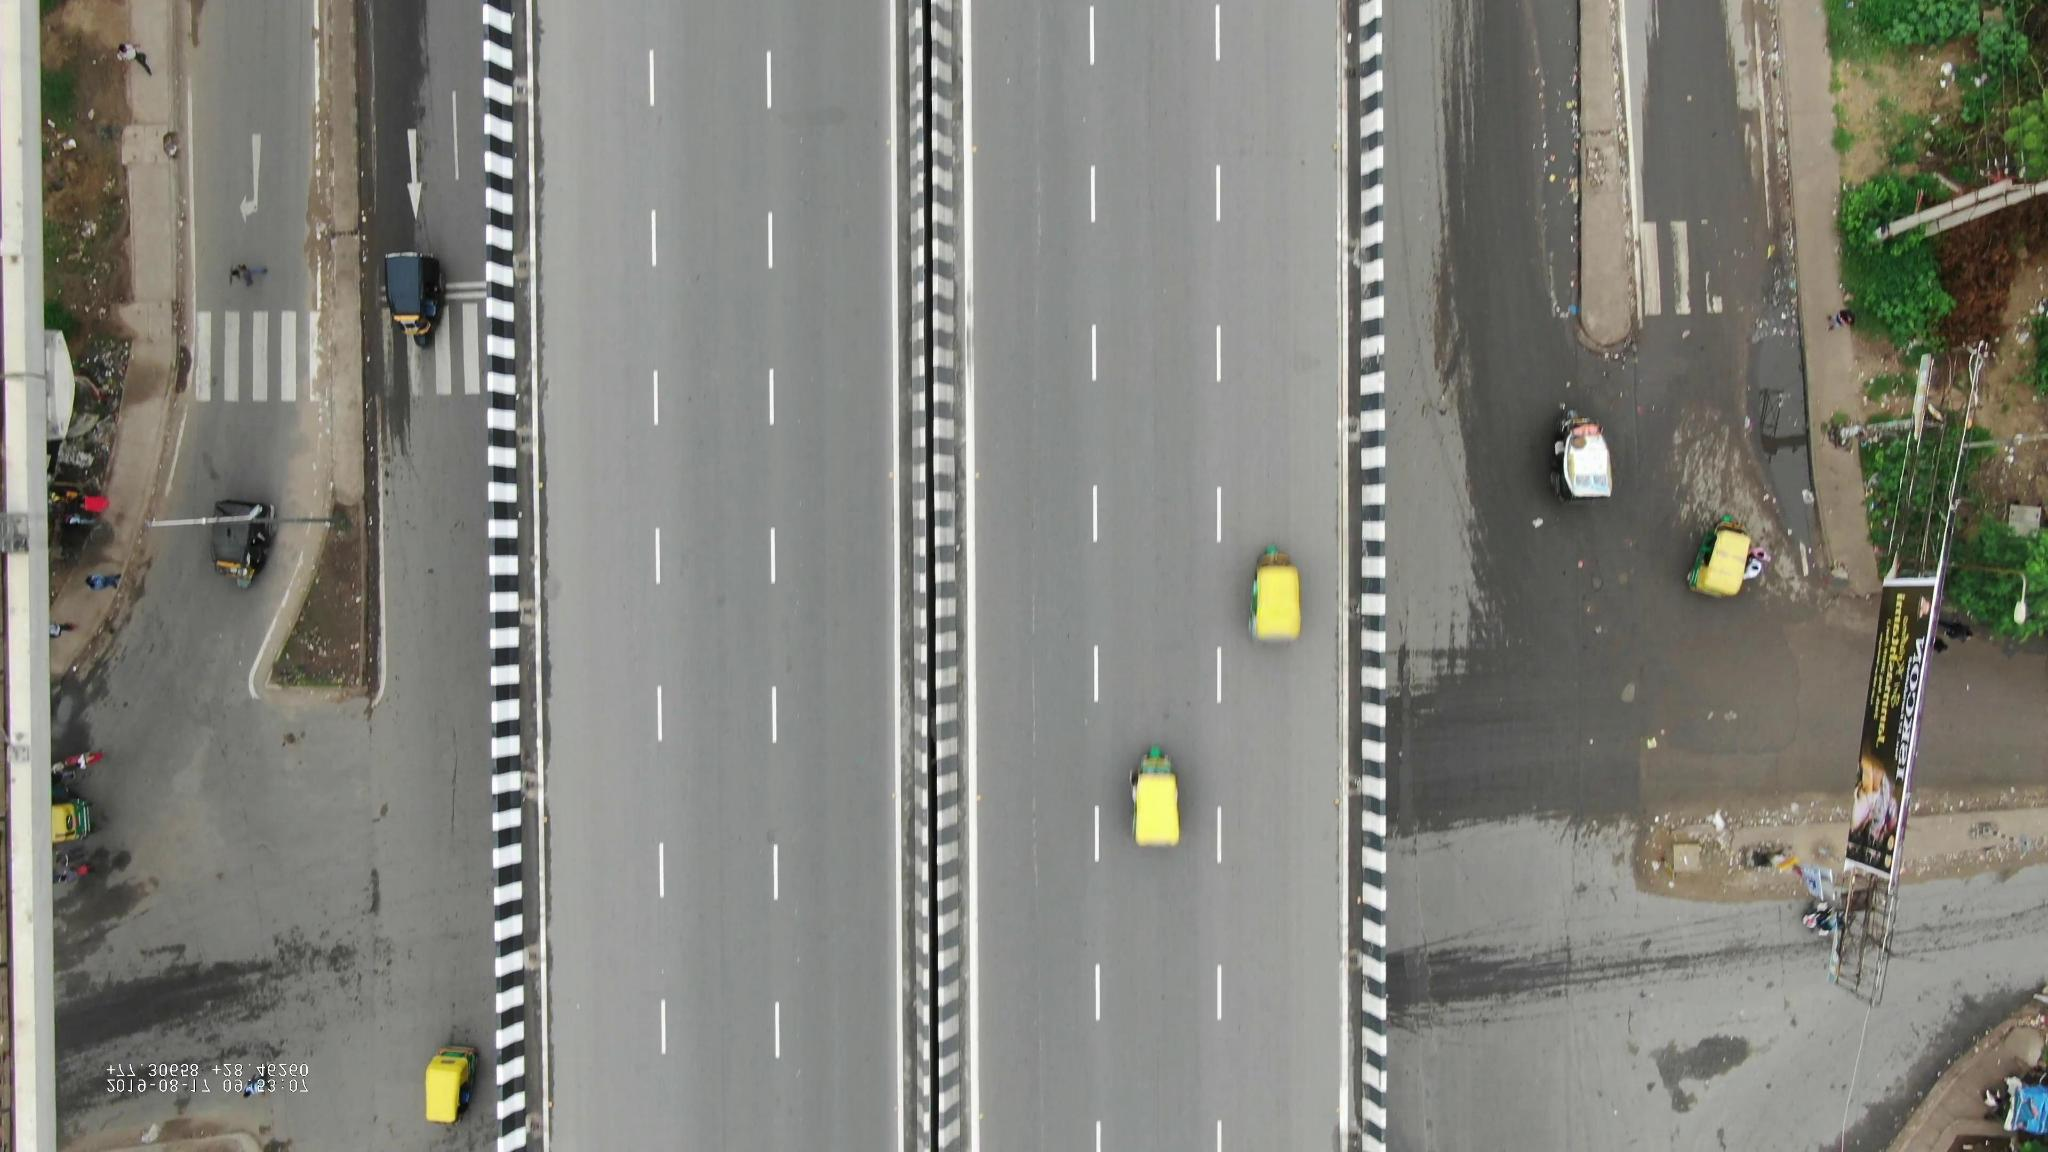Waterlogging: (1741, 332, 1813, 489)
